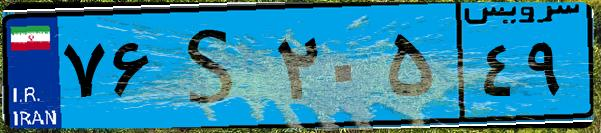0: (330, 28, 385, 110)
2: (270, 28, 330, 110)
4: (475, 38, 525, 113)
5: (385, 28, 445, 110)
6: (110, 28, 158, 98)
7: (57, 26, 110, 100)
9: (525, 38, 570, 115)
S: (158, 12, 270, 120)
